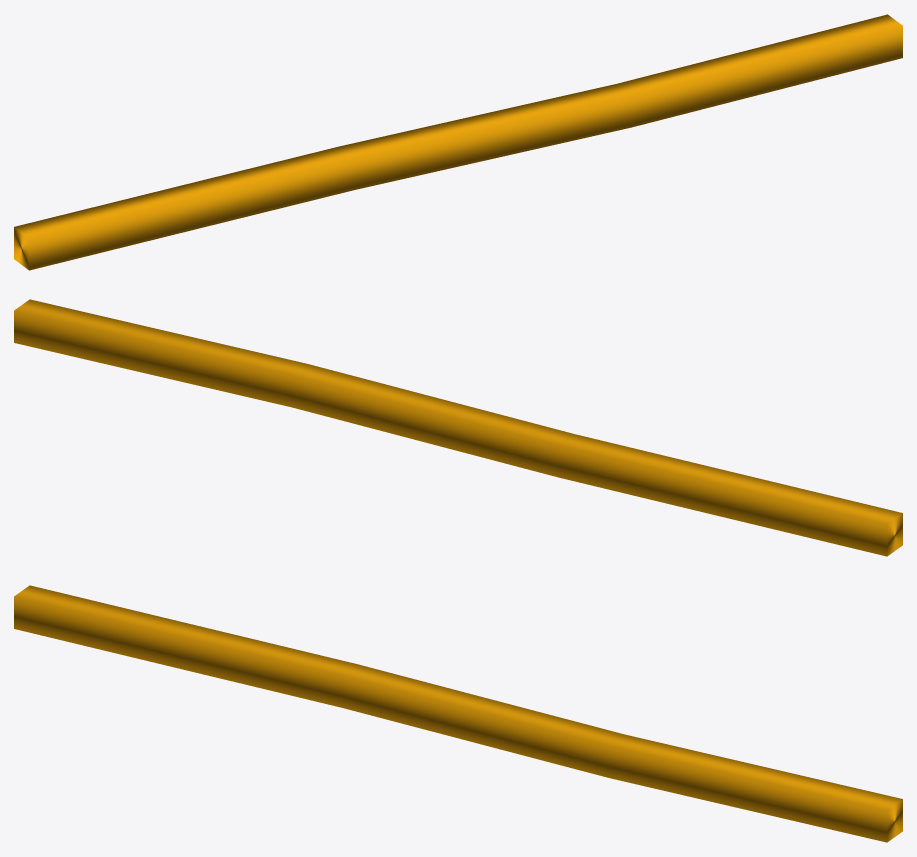
Rendered from Stick_01.fbx.
3 renders of one model, top to bottom at view 1: azimuth 30°, elevation 25°; view 2: azimuth 150°, elevation 25°; view 3: azimuth 330°, elevation 25°, orthographic.
Visible parts, largest first — view 1: Stick_01; view 2: Stick_01; view 3: Stick_01.
Part boxes in pixels (box(x1,y1,x2,y2)): Stick_01: box(14, 14, 902, 270); Stick_01: box(14, 299, 902, 556); Stick_01: box(14, 585, 902, 842).
Size of the model in its own units: 130 by 4.58 by 5.31.
